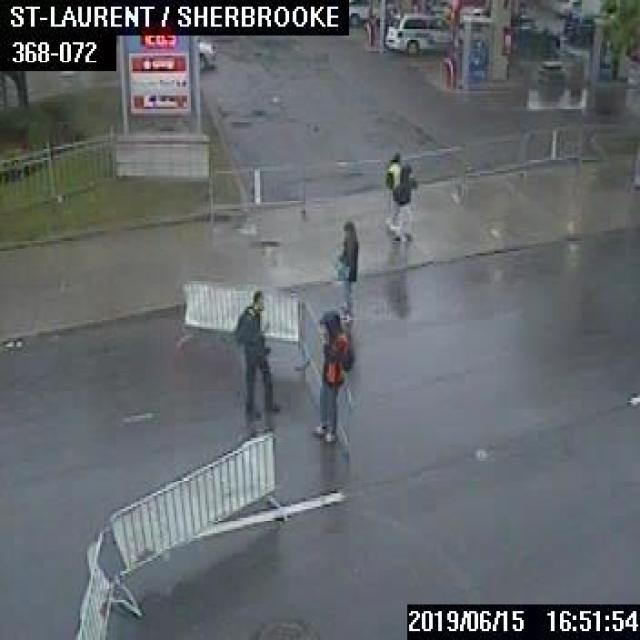construction: (291, 298, 349, 449)
pedestrian: (233, 287, 280, 413), (311, 309, 353, 443), (382, 151, 411, 240), (334, 220, 358, 311)
vehicle: (382, 12, 455, 54), (347, 0, 394, 24), (197, 36, 214, 70)
